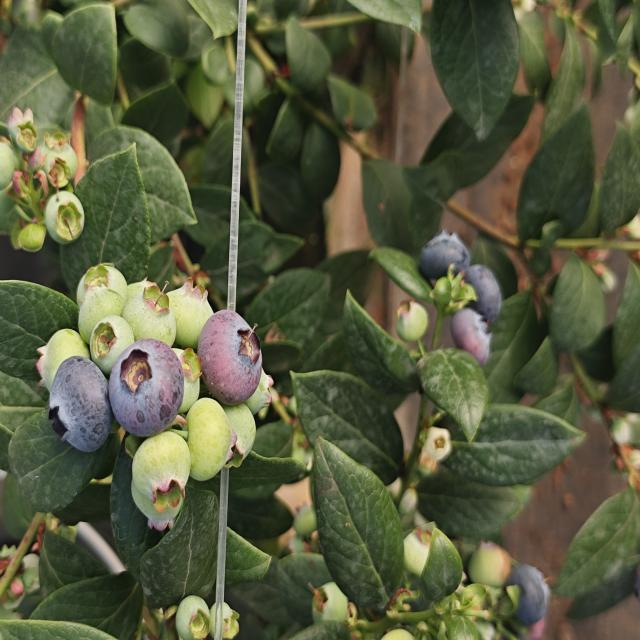ripe: (106, 336, 186, 440), (195, 307, 265, 407), (45, 354, 113, 456), (500, 548, 555, 636), (414, 228, 476, 294), (461, 247, 504, 332), (446, 298, 496, 369)
